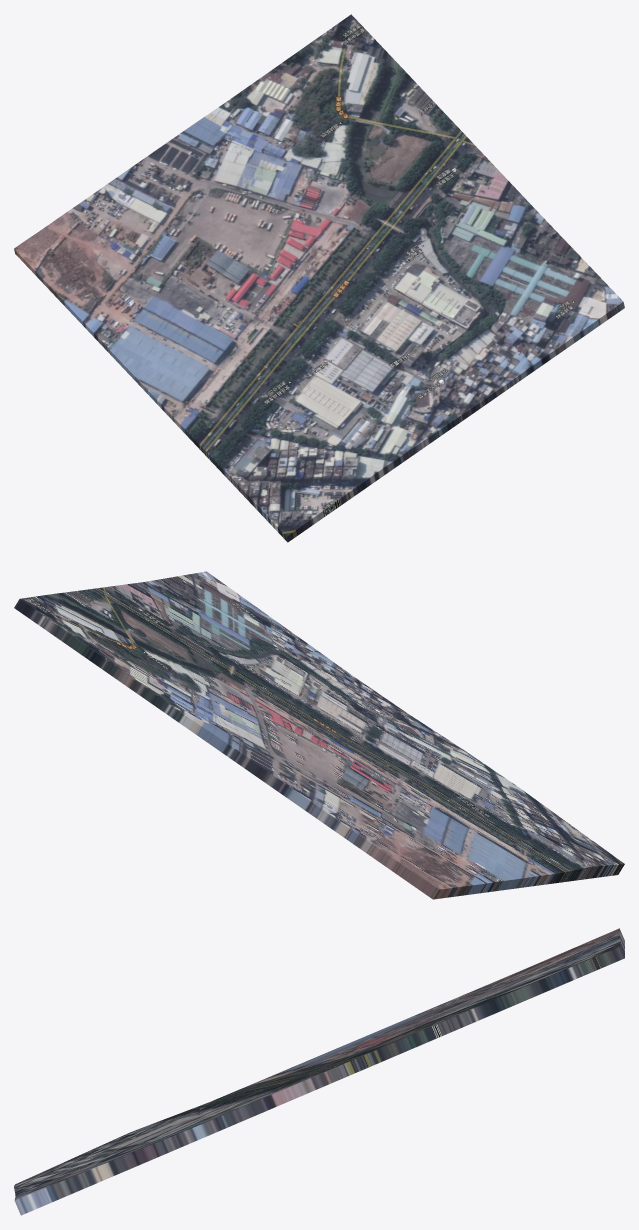
The picture shows the model from 3 angles, top to bottom: view 1: azimuth 30°, elevation 25°; view 2: azimuth 150°, elevation 25°; view 3: azimuth 270°, elevation 25°; orthographic projection. The views are drawn at different scales.
Visible parts, largest first — view 1: 0_17_29; view 2: 0_17_29; view 3: 0_17_29.
Part boxes in pixels (x1=…): 0_17_29: x1=14, y1=14, x2=624, y2=542; 0_17_29: x1=14, y1=571, x2=624, y2=899; 0_17_29: x1=14, y1=928, x2=624, y2=1215.
Size of the model in its own units: 597 by 438 by 548.
1 material, 1 textured.
